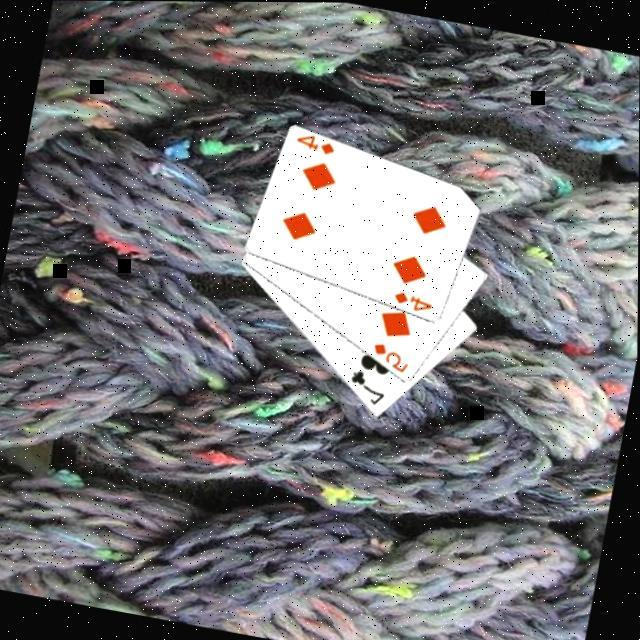4D: (292, 132, 340, 160), (390, 289, 437, 317)
5D: (366, 340, 415, 377)
7C: (344, 367, 392, 411)
